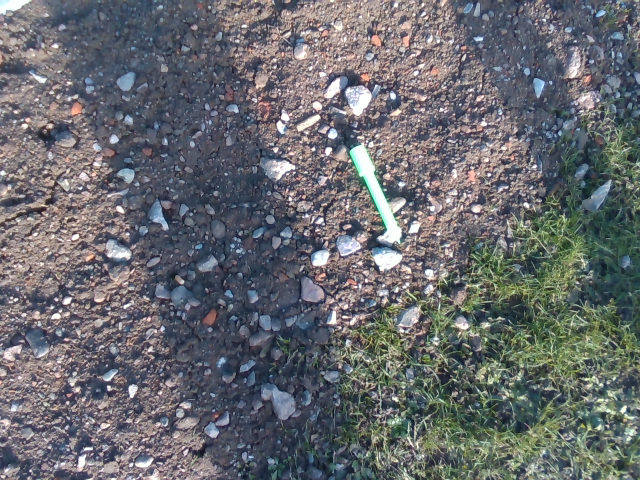Probe: (348, 138, 400, 237)
